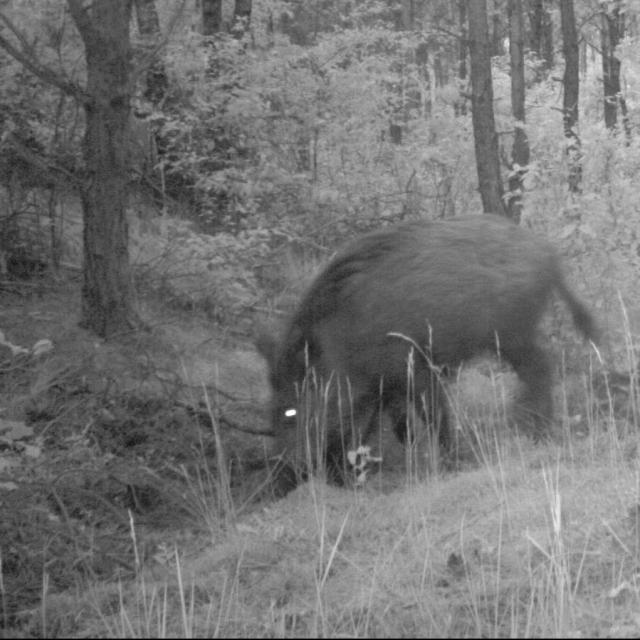pig: (253, 178, 585, 492)
